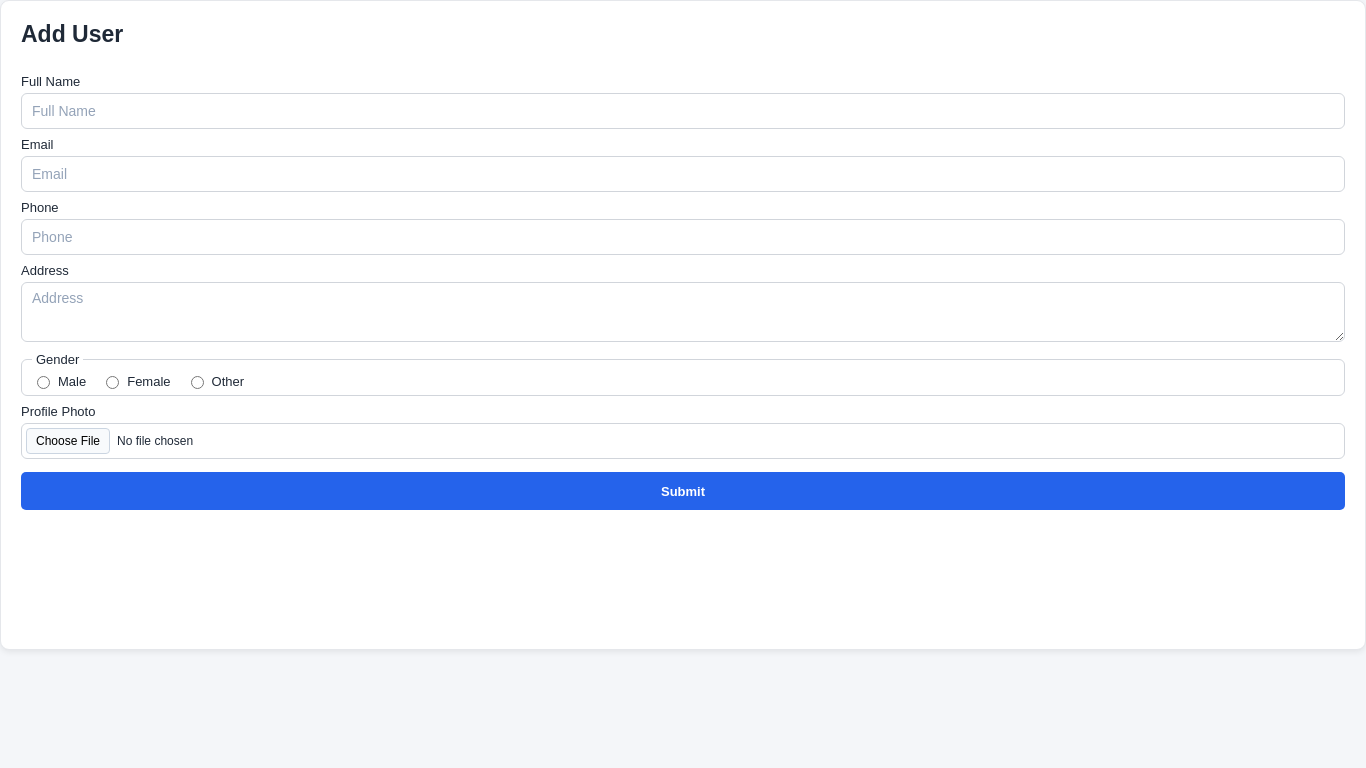
UserForm › rejects a phone number with fewer than 10 digits
In the field with placeholder "Full Name": (683, 111) [21,93,1345,129], type "Test User"
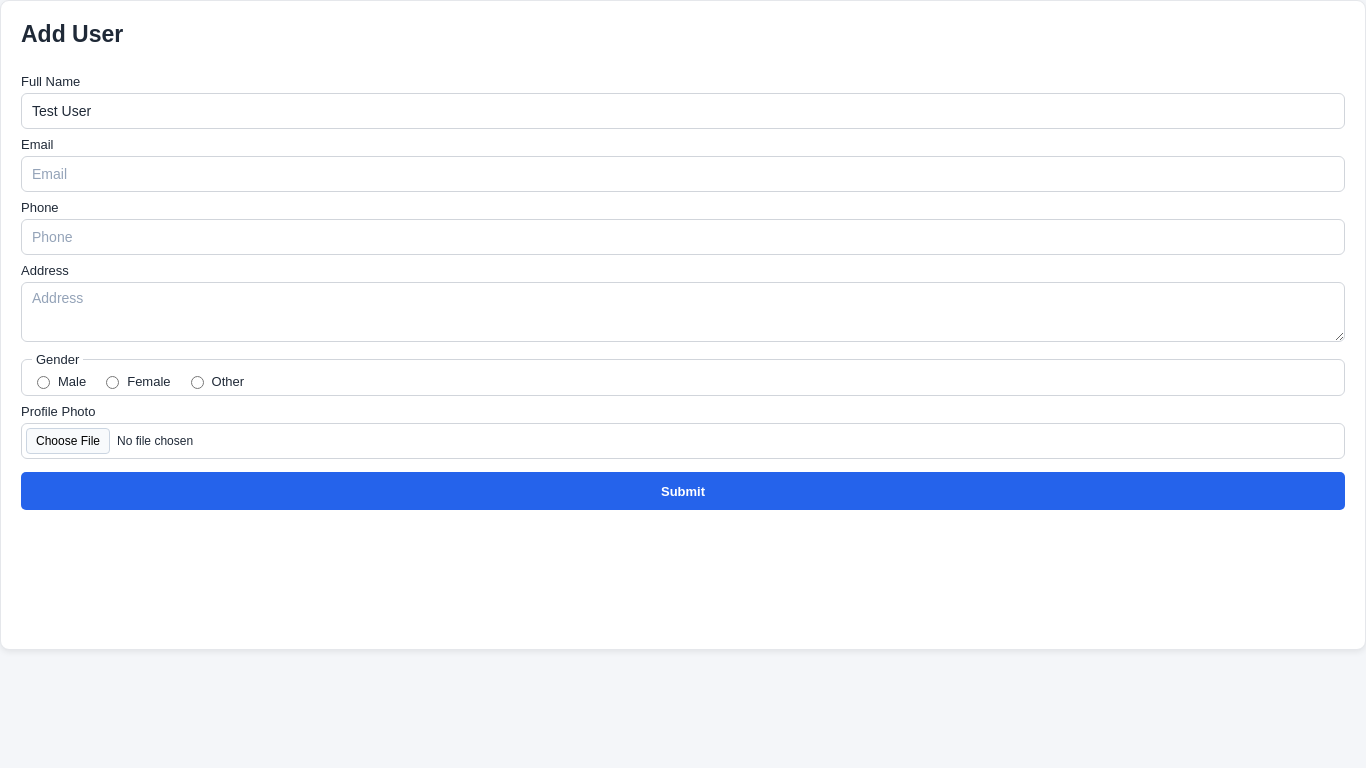
In the field with placeholder "Email": (683, 174) [21,156,1345,192], type "test@example.com"
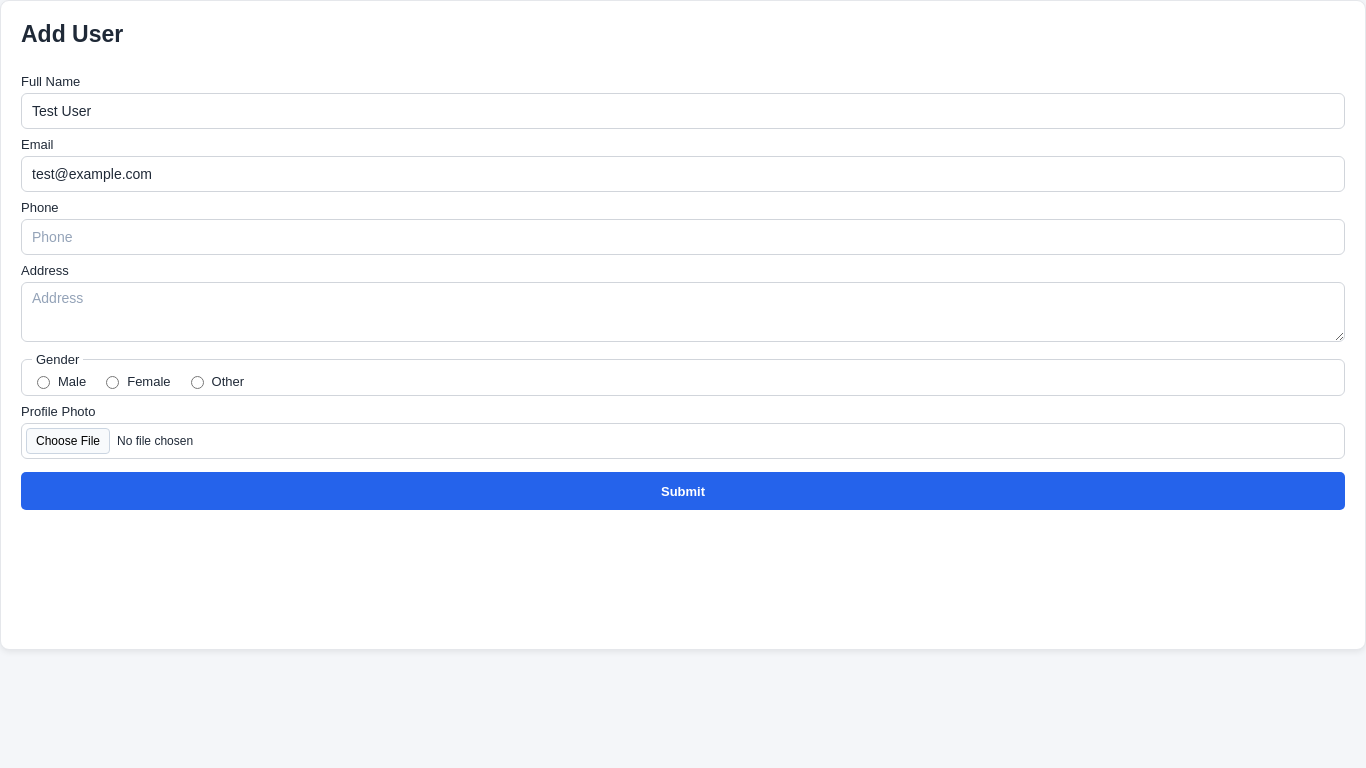
In the field with placeholder "Phone": (683, 237) [21,219,1345,255], type "12345"
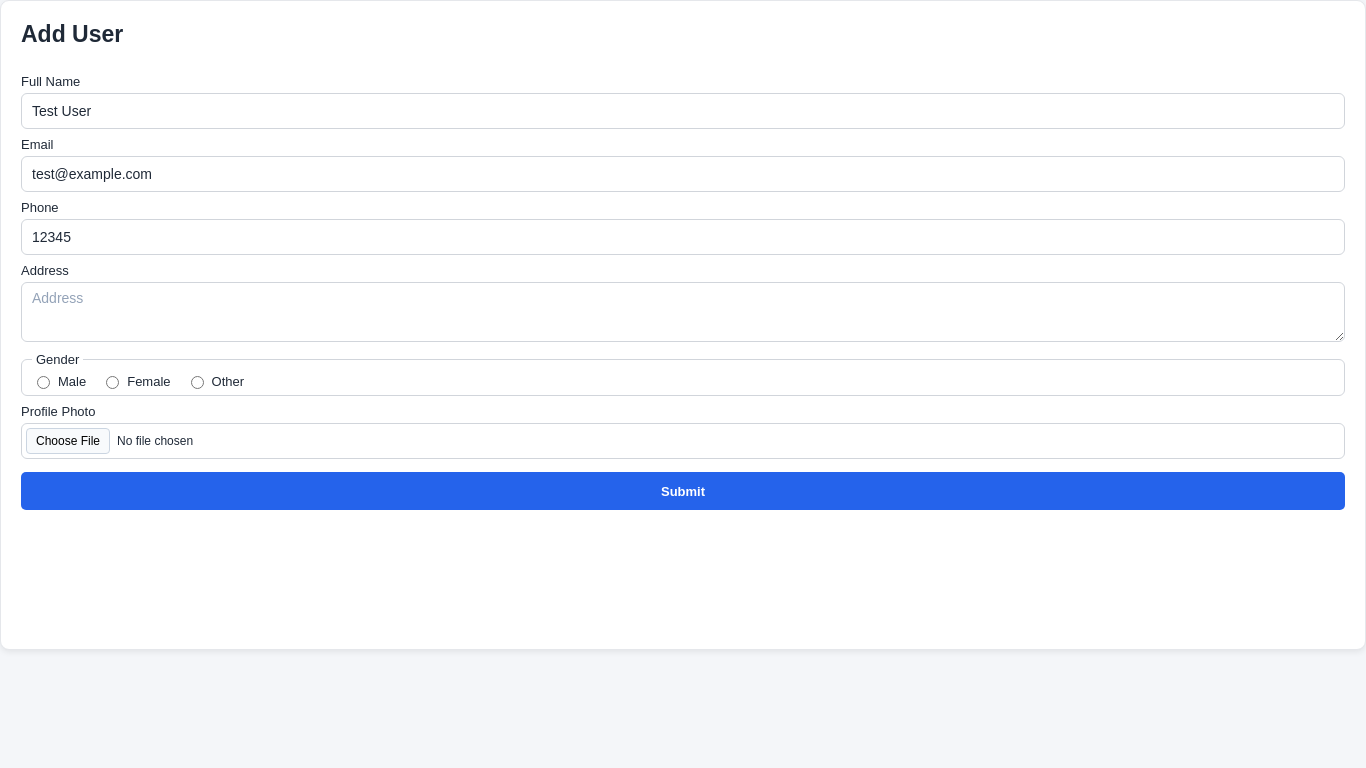
In the text box labelled "Address": (683, 312) [21,282,1345,342], type "Hyderabad"
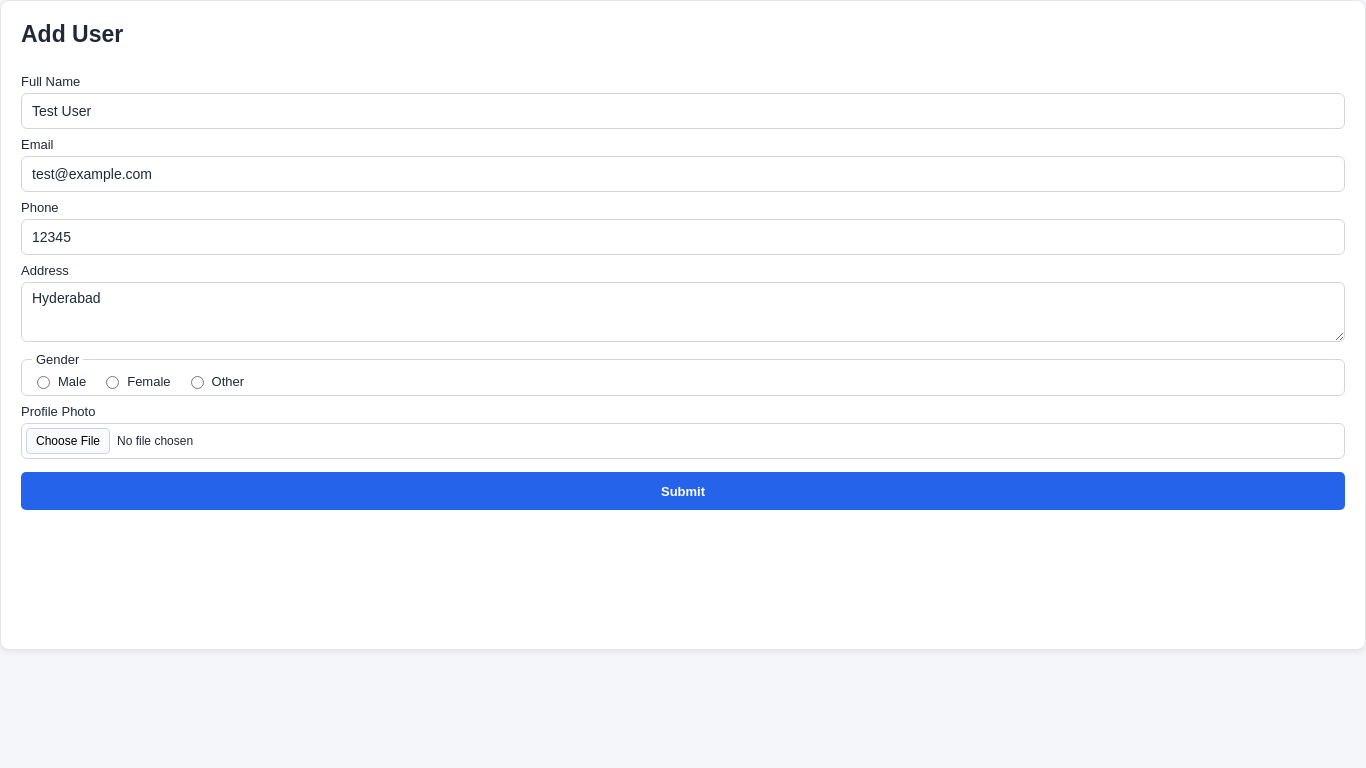
Click the radio button labelled "Male": (44, 382) [37,376,50,389]
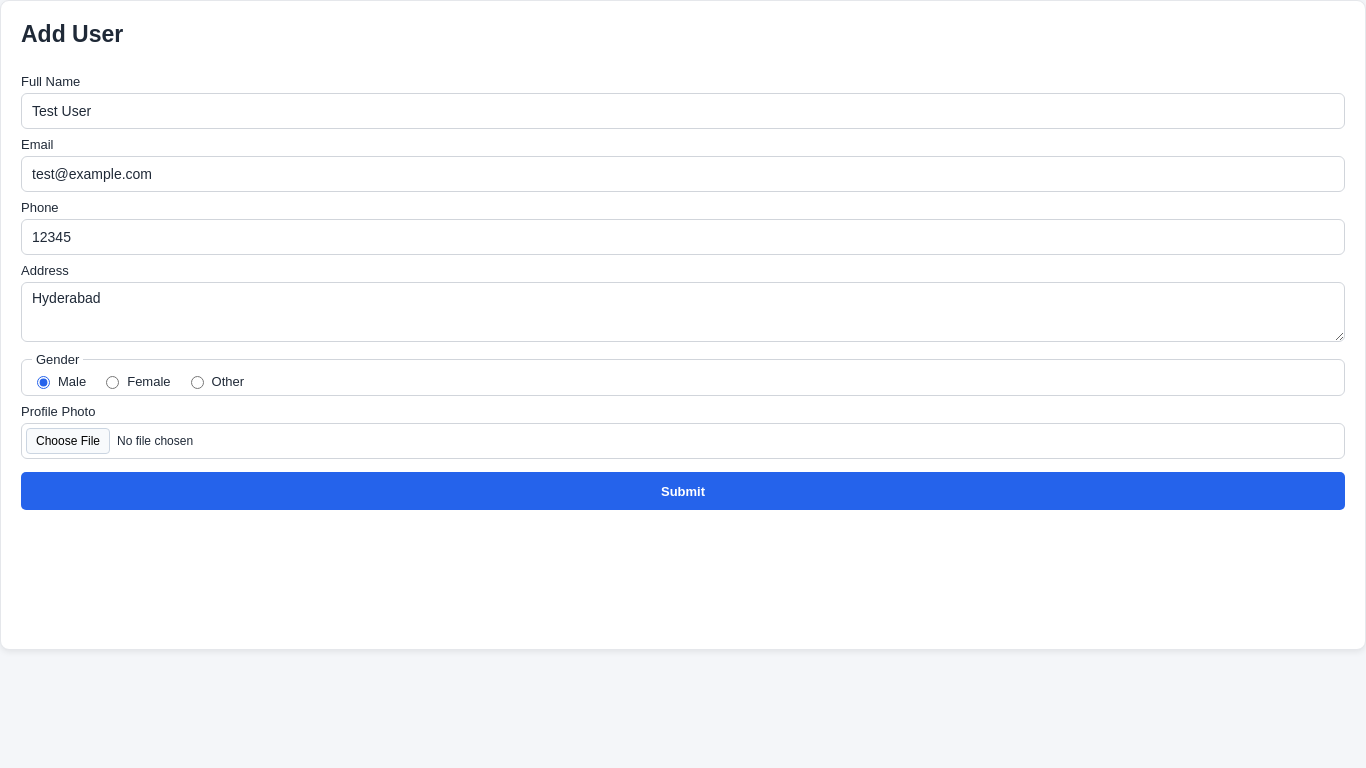
Submit the form "Add User"
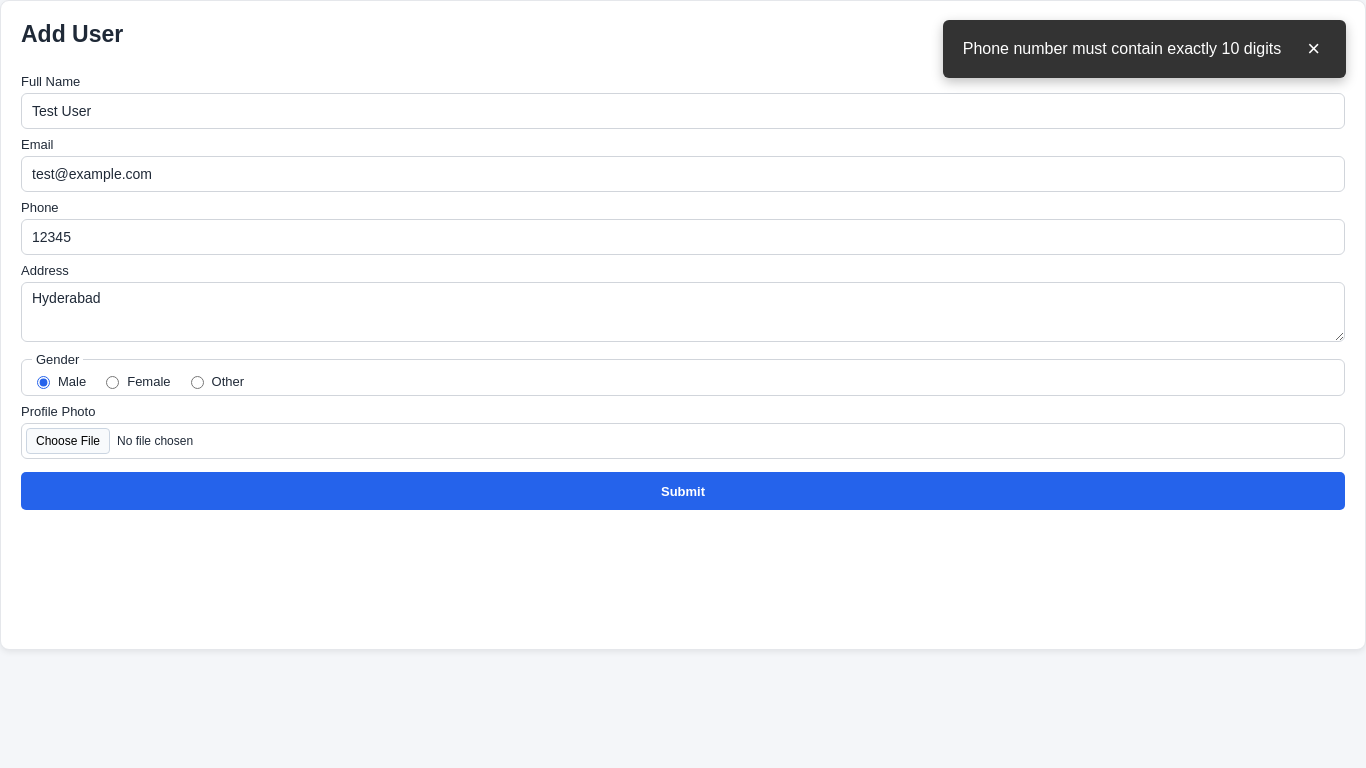
expect the text "Phone number must contain exactly 10 digits" is shown: met, box [963,40,1281,58]
